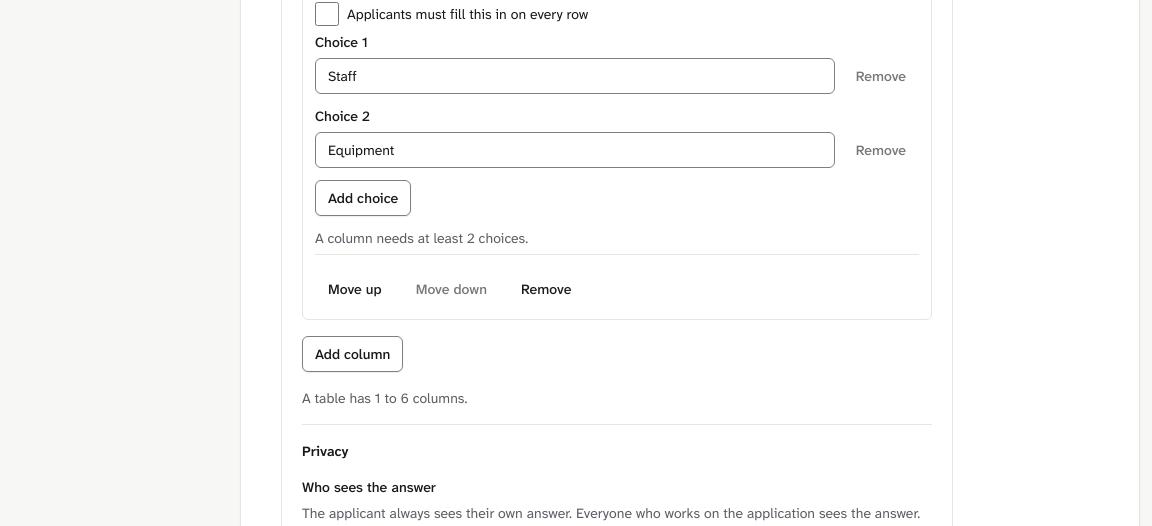
the columns of a table › are added at the end, with the cursor in the new heading
(page scrolled)
Click the button "Add column": [353, 354] box 302,336 -> 403,372
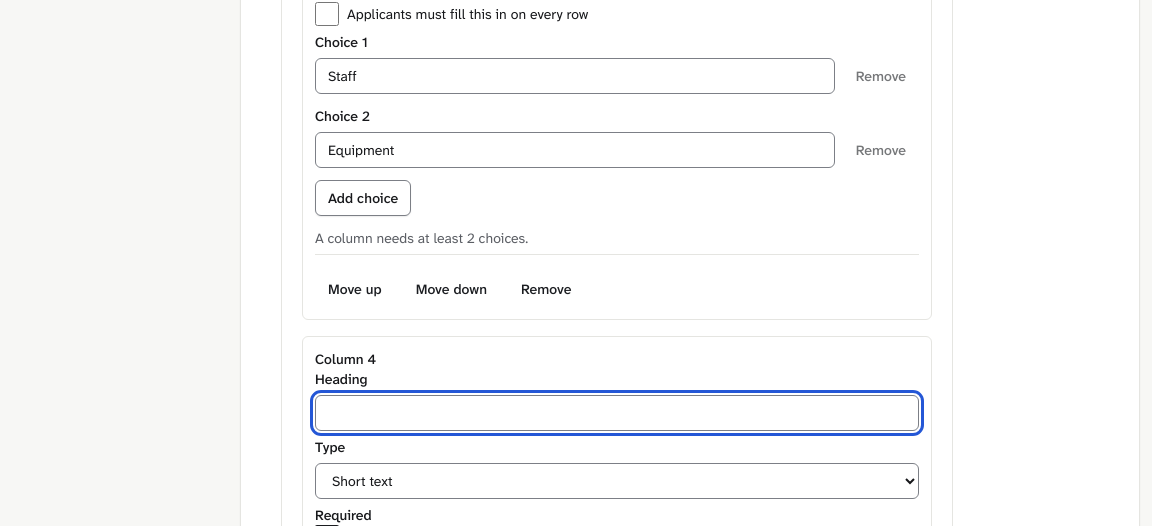
Type keys "Notes"
(page scrolled)
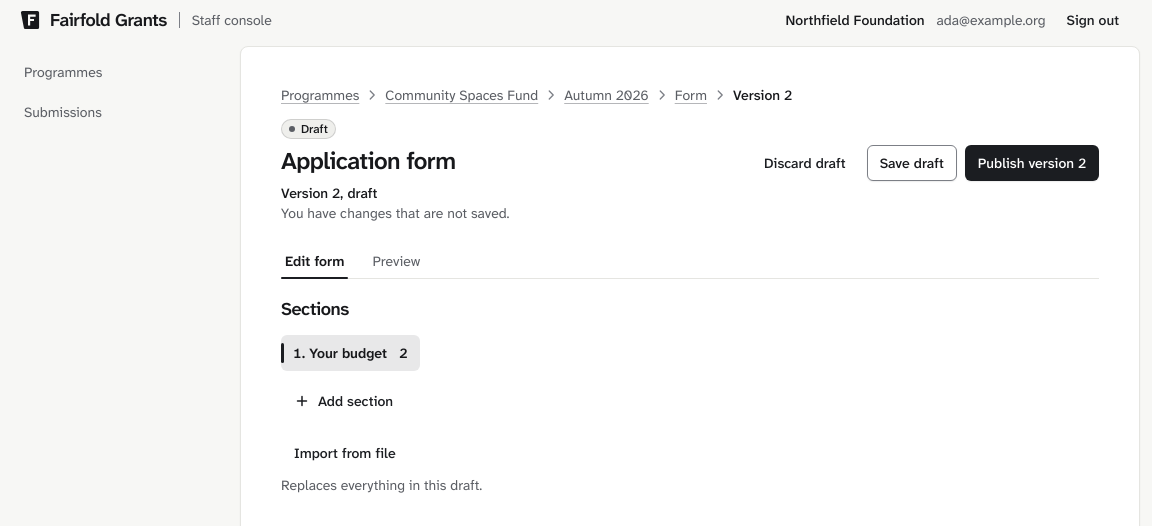
Click the button "Save draft": [912, 163] box 867,145 -> 957,181
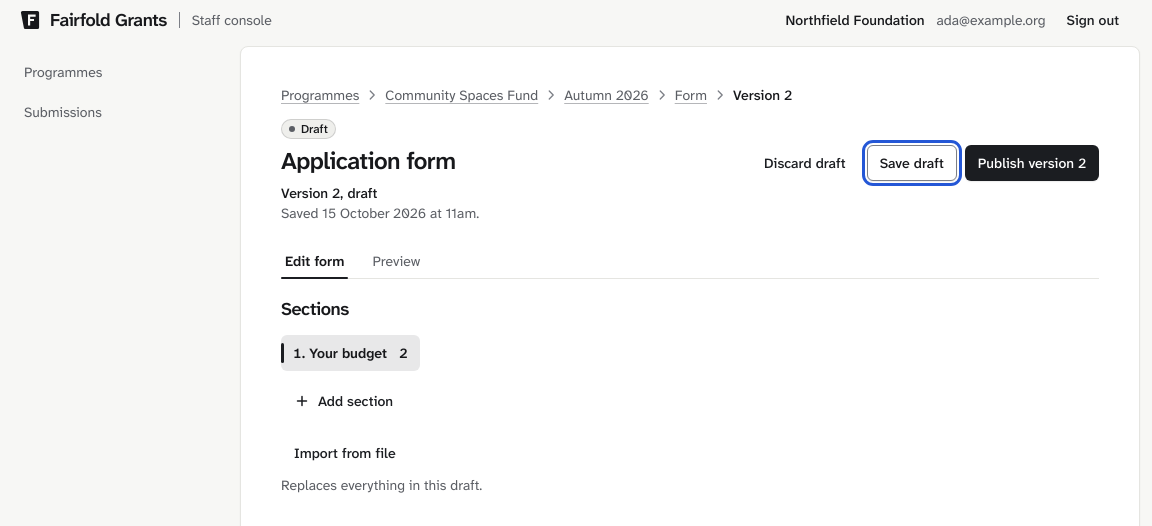
Expected: the text "Saved 15 October 2026 at 11am." is shown, 281,204 -> 479,222
